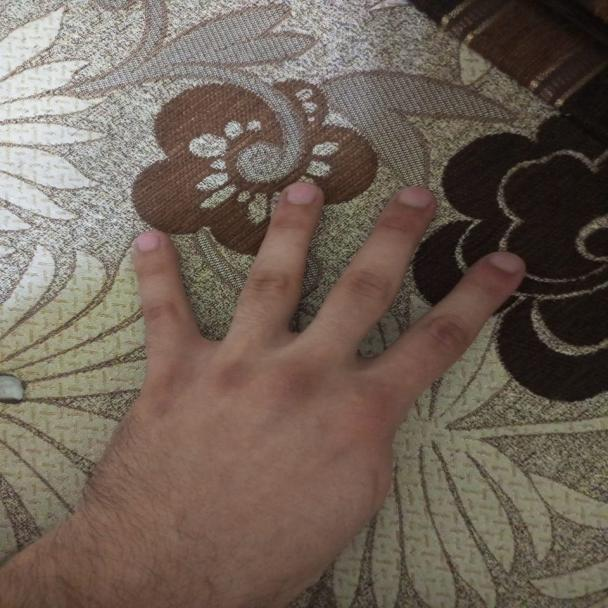four: (94, 171, 519, 591)
